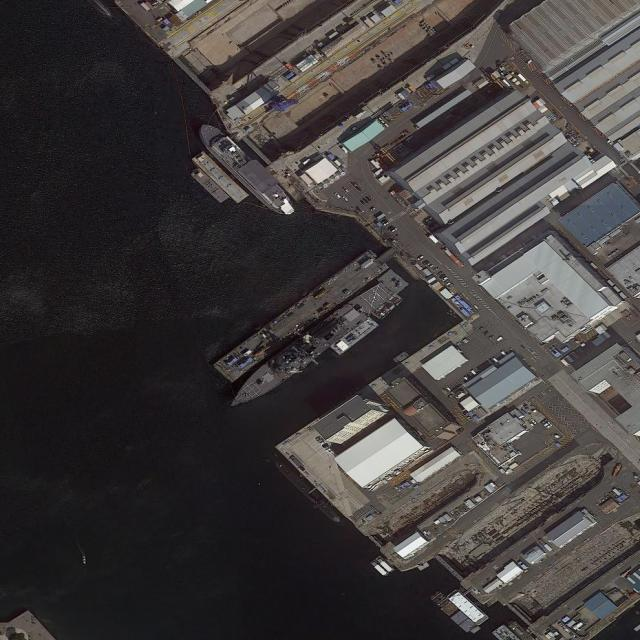Destroyer: (223, 278, 398, 413)
Dock: (213, 245, 385, 388)
Other Ship: (193, 116, 301, 225), (372, 291, 405, 323), (374, 553, 396, 575), (369, 559, 390, 579)
